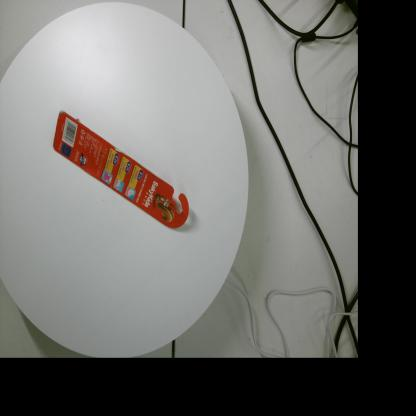Personal Hygiene: (53, 110, 189, 229)
